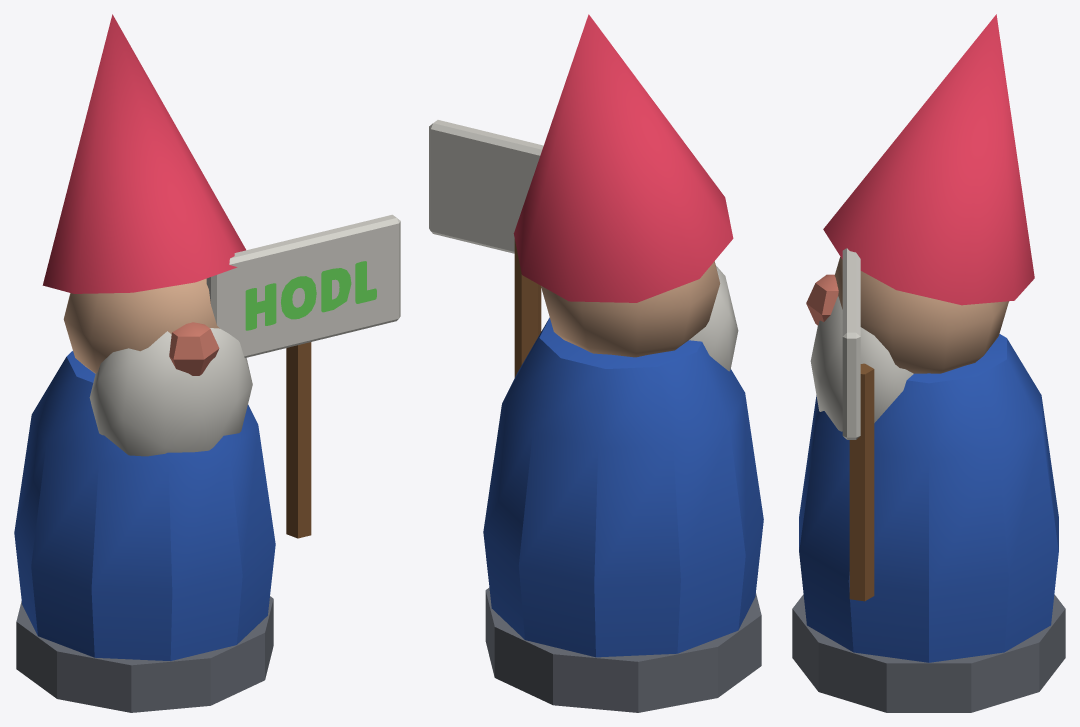
Rendered from gnome.glb.
3 renders of one model, left to right at view 1: azimuth 30°, elevation 25°; view 2: azimuth 150°, elevation 25°; view 3: azimuth 270°, elevation 25°, orthographic. The views are drawn at different scales.
Parts seen in each view (by area): view 1: body; view 2: body; view 3: body.
Boxes of the visible parts, x1,y1,x2,y2 form: body: [14, 14, 400, 712]; body: [429, 14, 763, 712]; body: [792, 14, 1065, 712].
Bounding box in the file's own units: 0.87 × 1.56 × 0.6.
